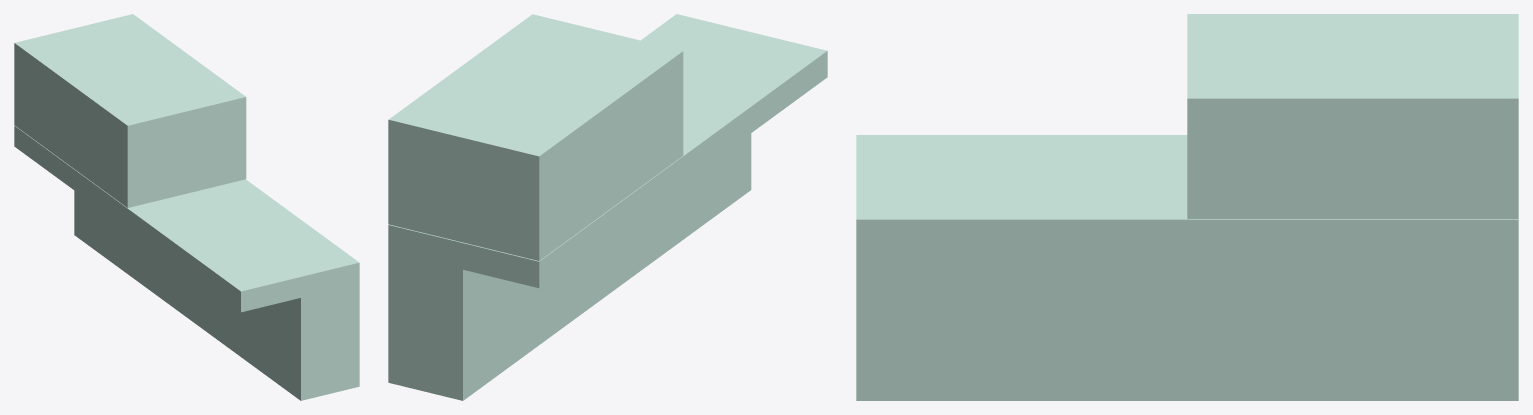
The picture shows the model from 3 angles, left to right: view 1: azimuth 30°, elevation 25°; view 2: azimuth 150°, elevation 25°; view 3: azimuth 270°, elevation 25°; orthographic projection. The views are drawn at different scales.
Parts seen in each view (by area): view 1: Renderer Node; view 2: Renderer Node; view 3: Renderer Node.
Boxes of the visible parts, x1,y1,x2,y2 form: Renderer Node: (14, 14, 359, 400); Renderer Node: (388, 14, 827, 400); Renderer Node: (856, 14, 1518, 400).
Size of the model in its own units: 0.2266 by 0.3777 by 0.75.
